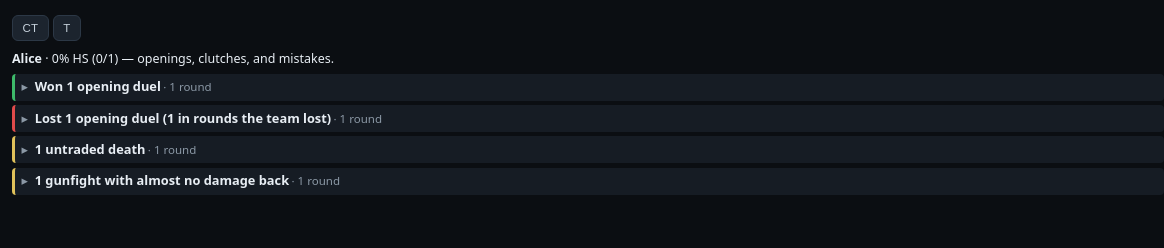
it: Review › keeps player event details closed until a headline is expanded
Step 1. Click the heading "Won 1 opening duel · 1 round" → (123, 86), box x1=35 y1=77 x2=212 y2=95
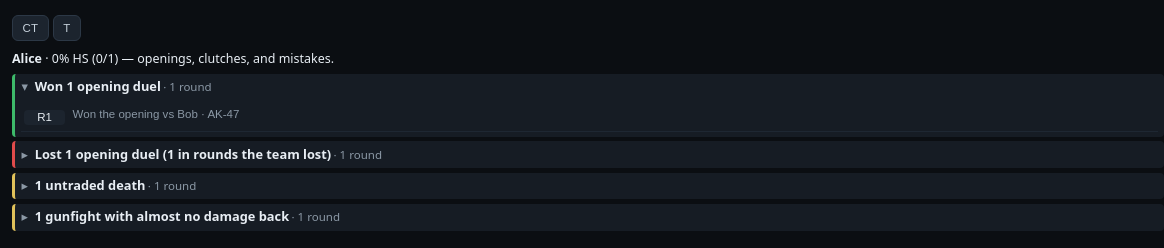
Now the button "R1 Won the opening vs Bob · AK-47" is shown, box x1=21 y1=102 x2=1158 y2=132
